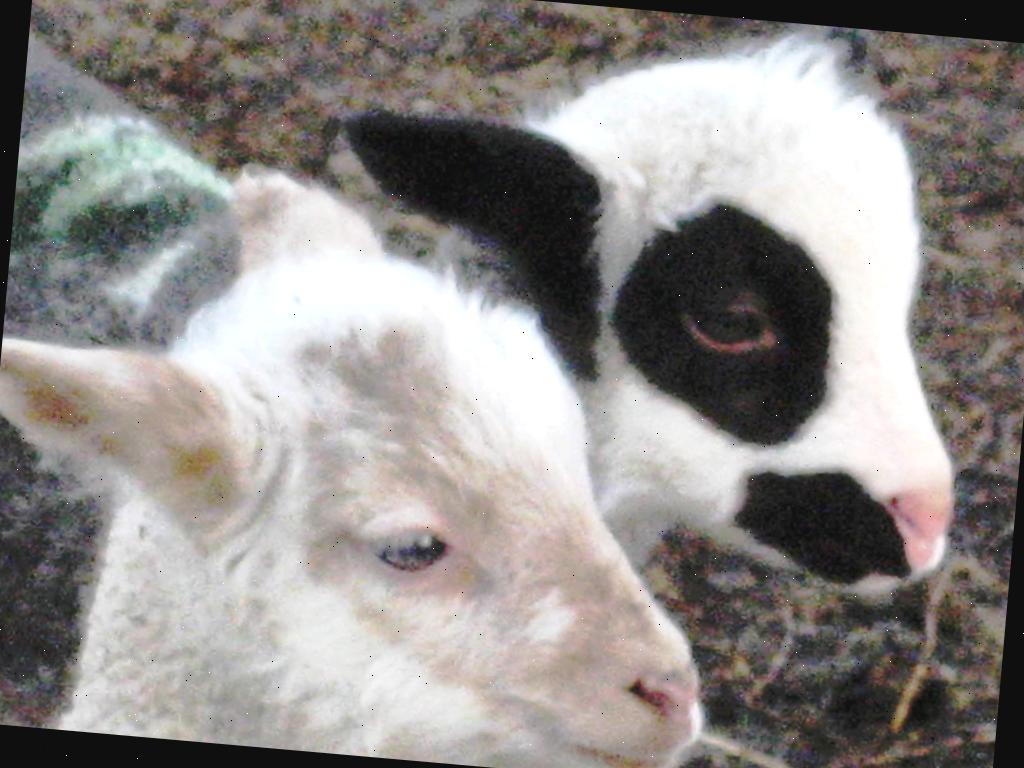Sheep: (0, 0, 999, 617), (0, 145, 739, 768)
